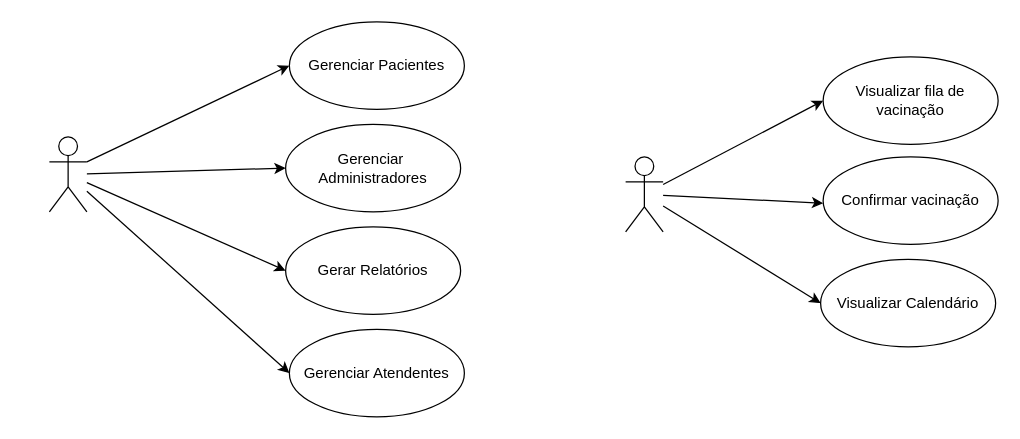
Some shapes in this 1020 by 439 pixel diagram are drawn without their labels. Here are the shapes that lost their labels. From the top down, the centre of each, then its label:
At (67,174): "Administrador".
At (643,194): "Atendente".
